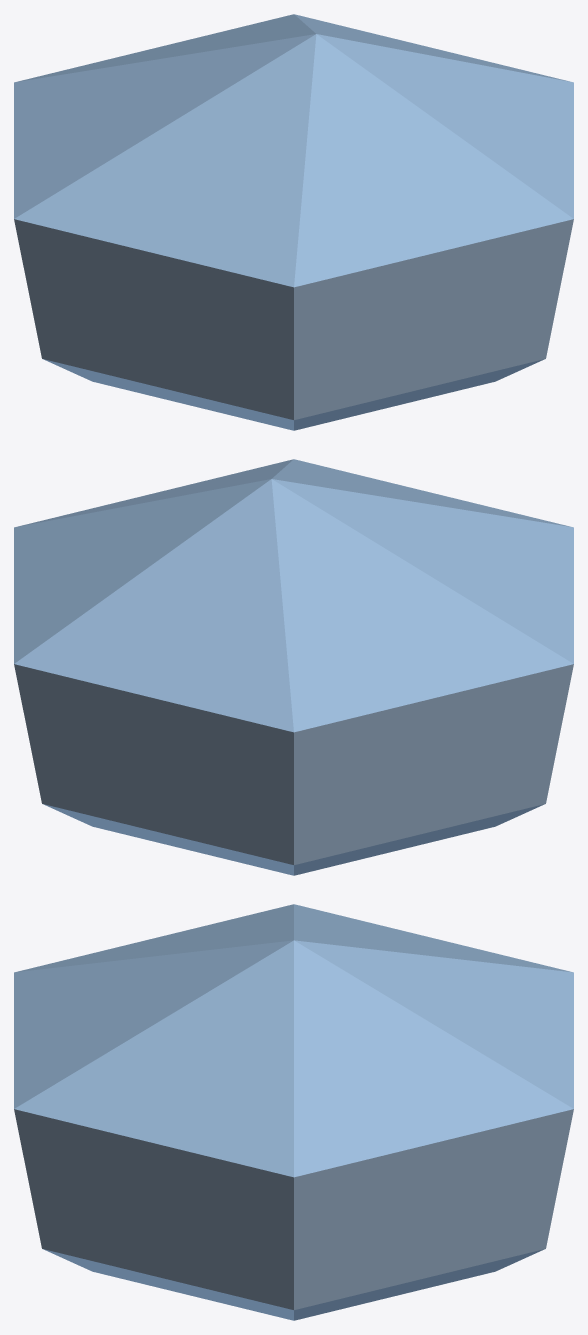
Rendered from vfx_ice_shard.glb.
3 views of the same model, one above another, from view 1: azimuth 30°, elevation 25°; view 2: azimuth 150°, elevation 25°; view 3: azimuth 270°, elevation 25° (orthographic).
Visible parts, largest first — view 1: fx; view 2: fx; view 3: fx.
Part boxes in pixels (bbox=[...]): fx: bbox=[14, 14, 573, 430]; fx: bbox=[14, 459, 573, 875]; fx: bbox=[14, 904, 573, 1320].
Bounding box in the file's own units: 2 × 1 × 1.73.
